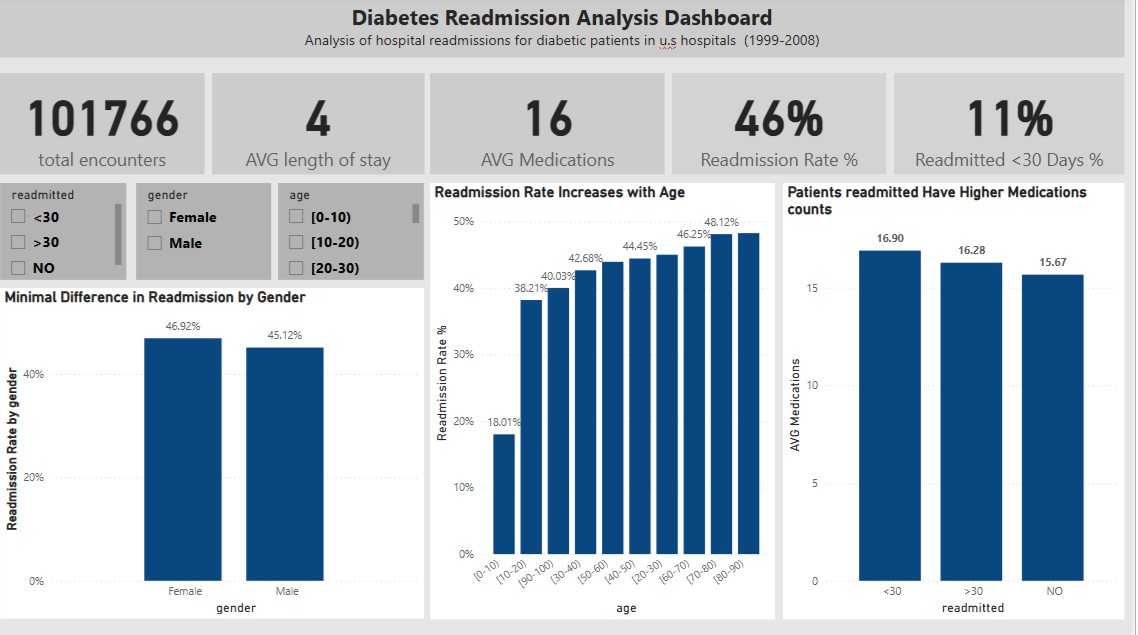

What the dashboard file says about the page in this screenshot:
{"tool":"powerbi","page":{"name":"Page 1","canvas":[1280,720],"ordinal":0},"visuals":[{"type":"card","fields":{"Values":["final_diabetic_analytics.total encounters"]},"box":[7.9,85.5,229.5,113.6],"z":0},{"type":"card","fields":{"Values":["final_diabetic_analytics.Readmission Rate %"]},"box":[763.9,85.5,240.8,113.6],"z":1000},{"type":"card","fields":{"Values":["final_diabetic_analytics.Readmitted <30 Days %"]},"box":[1013.6,85.5,258.8,113.6],"z":2000},{"type":"card","fields":{"Values":["final_diabetic_analytics.AVG length of stay"]},"box":[246.4,85.5,238.5,113.6],"z":3000},{"type":"card","fields":{"Values":["final_diabetic_analytics.AVG Medications"]},"box":[491.6,85.5,264.4,113.6],"z":4000},{"type":"slicer","fields":{"Values":["final_diabetic_analytics.gender"]},"box":[160.9,209.2,151.9,109.1],"z":5000},{"type":"slicer","fields":{"Values":["final_diabetic_analytics.age"]},"box":[320.6,209.2,164.2,109.1],"z":6000},{"type":"slicer","fields":{"Values":["final_diabetic_analytics.readmitted"]},"box":[7.9,209.2,141.8,109.1],"z":7000},{"type":"clusteredColumnChart","title":"Readmission Rate Increases with Age","fields":{"Category":["final_diabetic_analytics.age"],"Y":["final_diabetic_analytics.Readmission Rate %"]},"box":[491.6,209.2,388.1,490.5],"z":8000},{"type":"clusteredColumnChart","title":"Minimal Difference in Readmission by Gender","fields":{"Category":["final_diabetic_analytics.gender"],"Y":["final_diabetic_analytics.Readmission Rate %"]},"box":[7.9,327.4,477,372.4],"z":9000},{"type":"clusteredColumnChart","title":"Patients readmitted Have Higher  Medications  counts ","fields":{"Category":["final_diabetic_analytics.readmitted"],"Y":["final_diabetic_analytics.AVG Medications"]},"box":[888.8,209.2,383.6,490.5],"z":10000},{"type":"textbox","box":[7.9,0,1264.5,67.5],"z":10002}]}

Visuals, with their boxes in screenshot pixels (x1, y1, x2, y2), scaled from the page's 1280x720 canvas onto the 1138x635 screenshot:
card - final_diabetic_analytics.total encounters: rect(7, 75, 211, 176)
card - final_diabetic_analytics.Readmission Rate %: rect(679, 75, 893, 176)
card - final_diabetic_analytics.Readmitted <30 Days %: rect(901, 75, 1131, 176)
card - final_diabetic_analytics.AVG length of stay: rect(219, 75, 431, 176)
card - final_diabetic_analytics.AVG Medications: rect(437, 75, 672, 176)
slicer - final_diabetic_analytics.gender: rect(143, 185, 278, 281)
slicer - final_diabetic_analytics.age: rect(285, 185, 431, 281)
slicer - final_diabetic_analytics.readmitted: rect(7, 185, 133, 281)
"Readmission Rate Increases with Age" clusteredColumnChart: rect(437, 185, 782, 617)
"Minimal Difference in Readmission by Gender" clusteredColumnChart: rect(7, 289, 431, 617)
"Patients readmitted Have Higher  Medications  counts " clusteredColumnChart: rect(790, 185, 1131, 617)
textbox: rect(7, 0, 1131, 60)
